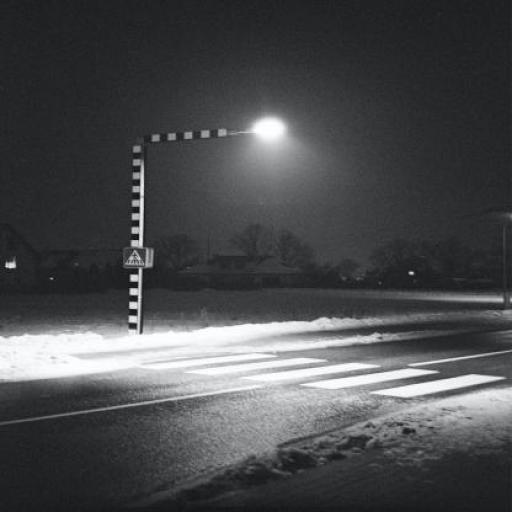street light: (127, 118, 284, 339)
